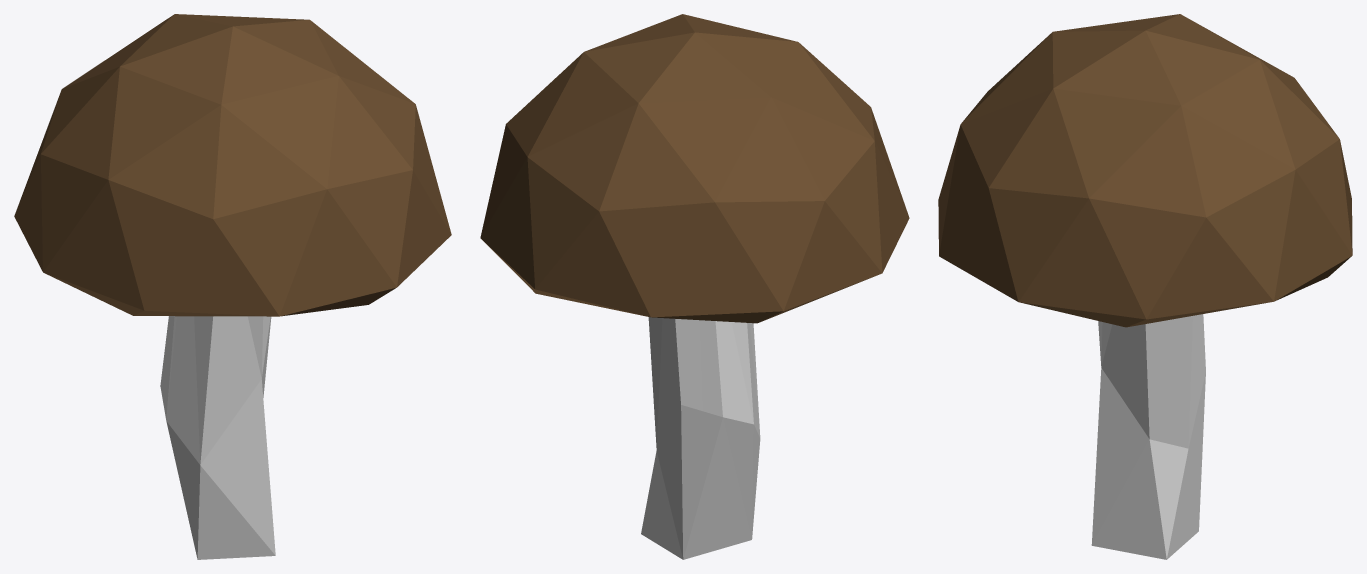
File: Mushroom_08.fbx
3 views of the same model, side by side, from view 1: azimuth 30°, elevation 25°; view 2: azimuth 150°, elevation 25°; view 3: azimuth 270°, elevation 25° (orthographic).
Parts seen in each view (by area): view 1: Mushroom_08; view 2: Mushroom_08; view 3: Mushroom_08.
Boxes of the visible parts, x1,y1,x2,y2 form: Mushroom_08: [14, 14, 451, 559]; Mushroom_08: [480, 14, 909, 559]; Mushroom_08: [938, 14, 1352, 559].
Size of the model in its own units: 0.2871 by 0.3702 by 0.2735.
